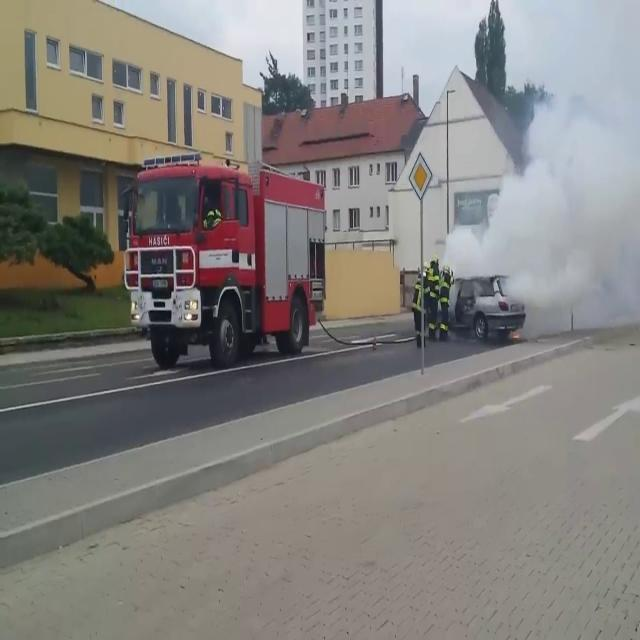Smoke: (453, 1, 640, 327)
